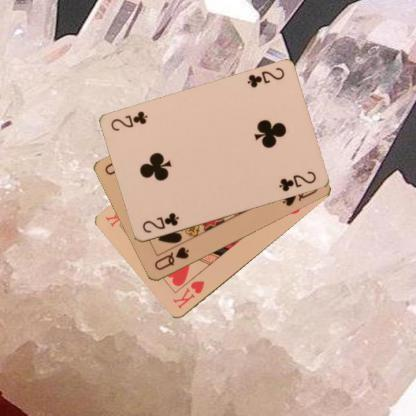2c: (244, 65, 286, 90), (140, 210, 180, 235)
Kh: (170, 278, 206, 311)
Qs: (151, 245, 190, 272)
